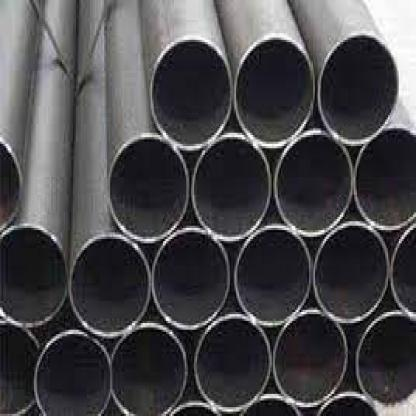pipe: (234, 38, 315, 147), (191, 134, 271, 241), (150, 225, 230, 332), (273, 130, 351, 235), (152, 40, 229, 146), (112, 138, 189, 240), (105, 319, 187, 414), (320, 38, 395, 140), (235, 222, 310, 323), (195, 313, 271, 411), (70, 237, 149, 331), (313, 223, 385, 321), (31, 333, 109, 416), (352, 127, 416, 227), (0, 223, 64, 323), (273, 318, 346, 403), (357, 305, 416, 407), (1, 321, 41, 413), (391, 223, 416, 315), (0, 134, 18, 231)
